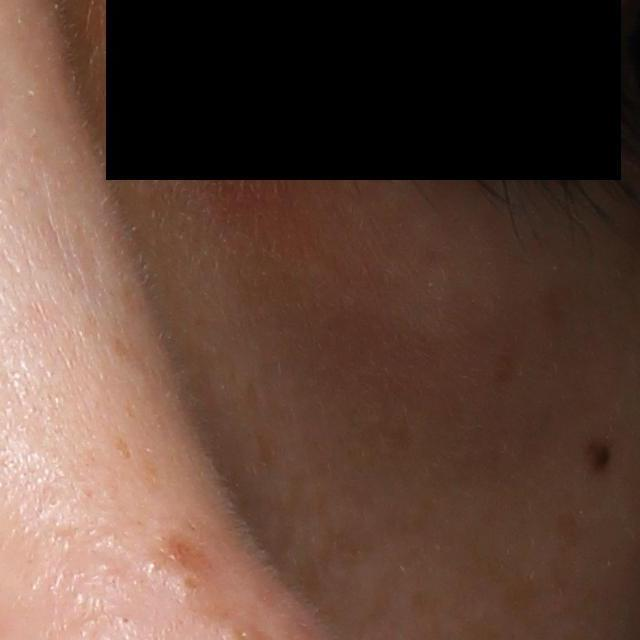nevus: (590, 431, 608, 473)
